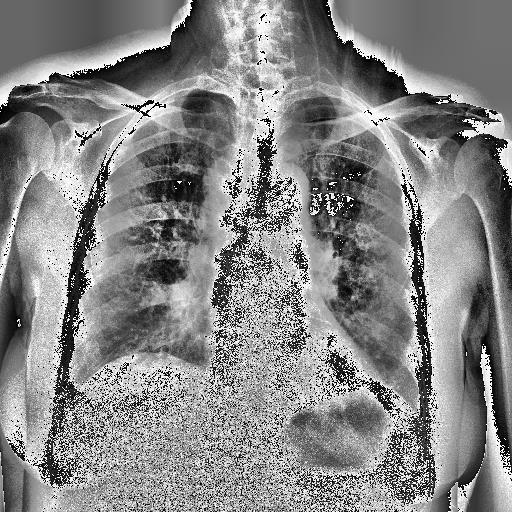0- Aortic enlargement: (258, 160, 314, 241), (265, 162, 311, 234), (268, 165, 310, 205)
10- Pleural effusion: (48, 363, 118, 429), (52, 370, 122, 435)
11- Pleural thickening: (58, 382, 82, 426)
12- Pneumothorax: (58, 382, 82, 426)
9- Other lesion: (204, 156, 236, 218)
